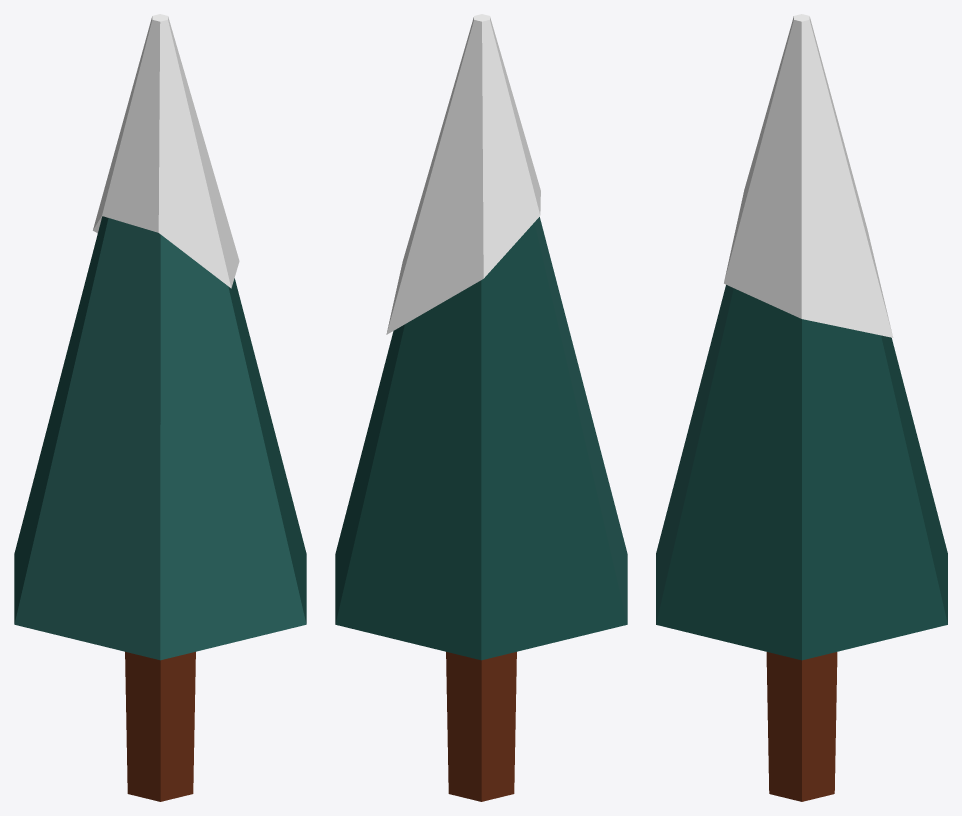
File: tree1.fbx
The picture shows the model from 3 angles, left to right: view 1: azimuth 30°, elevation 25°; view 2: azimuth 150°, elevation 25°; view 3: azimuth 270°, elevation 25°; orthographic projection.
Parts seen in each view (by area): view 1: tree1; view 2: tree1; view 3: tree1.
Boxes of the visible parts, x1,y1,x2,y2 form: tree1: (14, 14, 306, 801); tree1: (335, 14, 627, 801); tree1: (656, 14, 947, 801).
Size of the model in its own units: 67.3 by 169 by 58.29.
